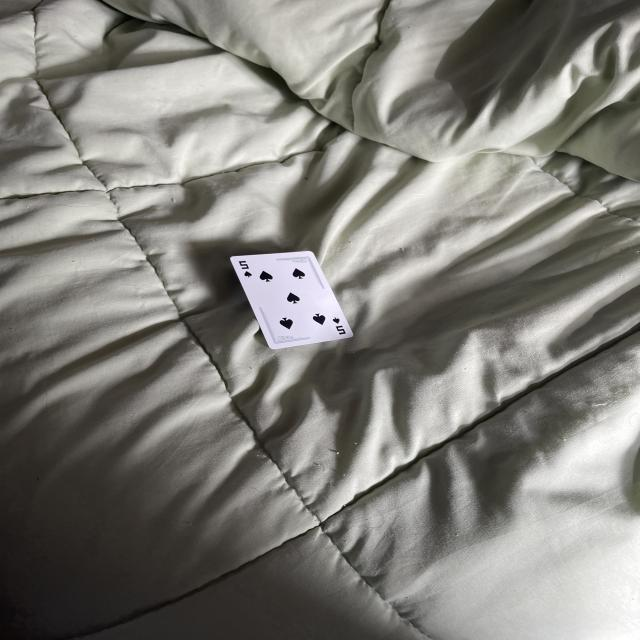5 of spades: (229, 251, 352, 352)
